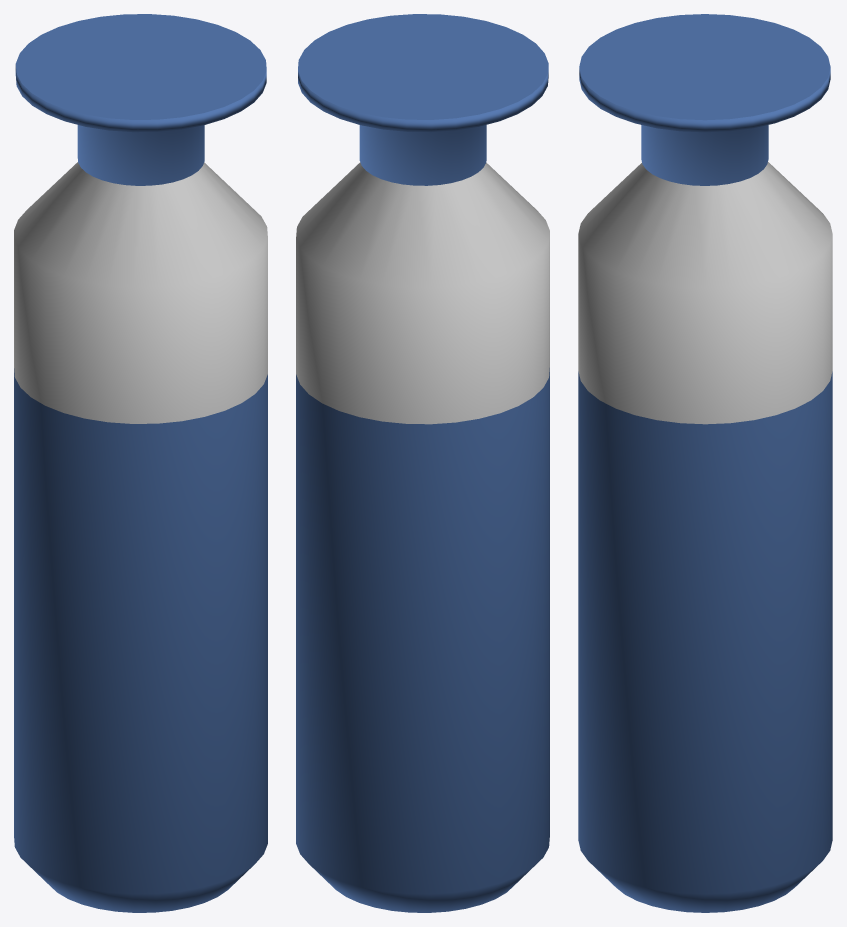
The model's file is dopper.glb.
3 views of the same model, side by side, from view 1: azimuth 30°, elevation 25°; view 2: azimuth 150°, elevation 25°; view 3: azimuth 270°, elevation 25° (orthographic).
Visible parts, largest first — view 1: Cylinder, Cylinder.001; view 2: Cylinder, Cylinder.001; view 3: Cylinder, Cylinder.001.
Part boxes in pixels (x1=…): Cylinder: x1=14, y1=162, x2=267, y2=912; Cylinder.001: x1=15, y1=14, x2=266, y2=185; Cylinder: x1=296, y1=162, x2=549, y2=912; Cylinder.001: x1=298, y1=14, x2=548, y2=185; Cylinder: x1=578, y1=162, x2=832, y2=912; Cylinder.001: x1=579, y1=14, x2=830, y2=185.
Size of the model in its own units: 1.37 by 4.78 by 1.37.
